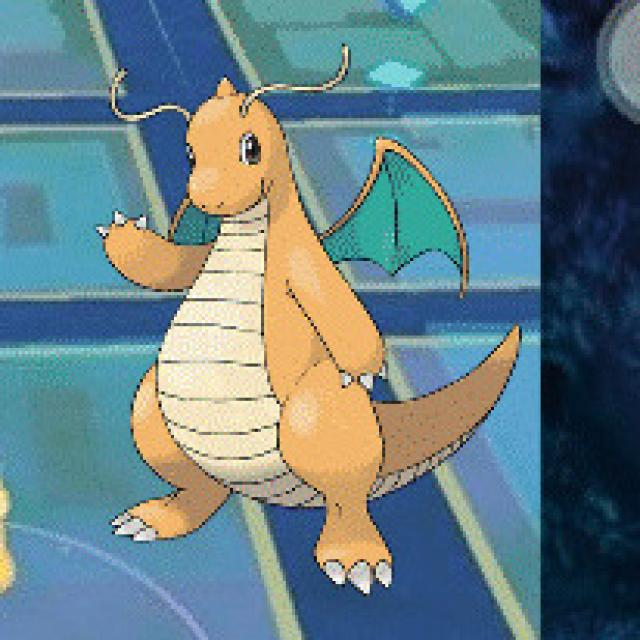Dragonite: (125, 74, 407, 539)
